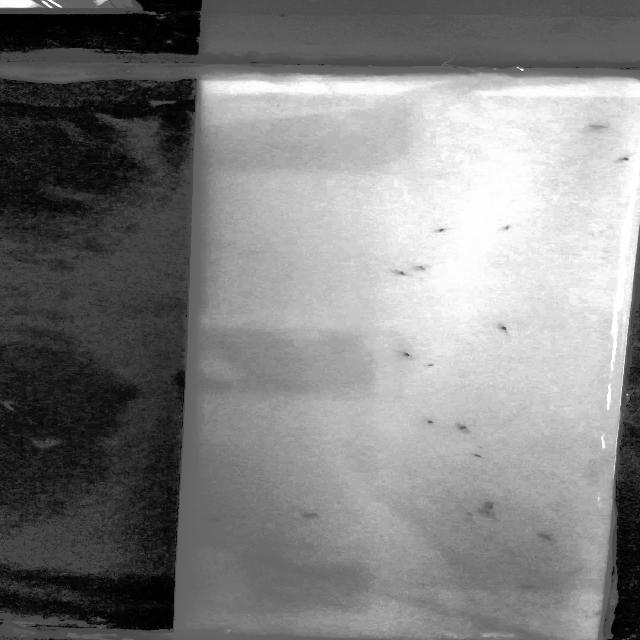shrimp: (509, 581, 546, 595), (530, 528, 562, 544), (451, 418, 478, 436), (197, 512, 228, 527), (420, 223, 458, 235), (389, 345, 414, 363), (489, 322, 517, 338), (384, 264, 411, 280), (416, 416, 445, 429), (476, 500, 506, 509), (477, 509, 495, 522), (620, 153, 634, 165)
